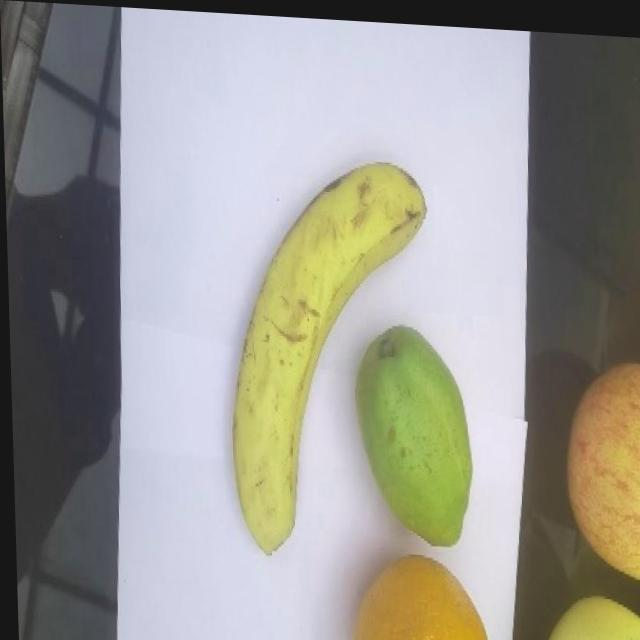Apple: (558, 349, 640, 583)
Banana: (220, 147, 433, 558)
Orange: (345, 549, 490, 640)
